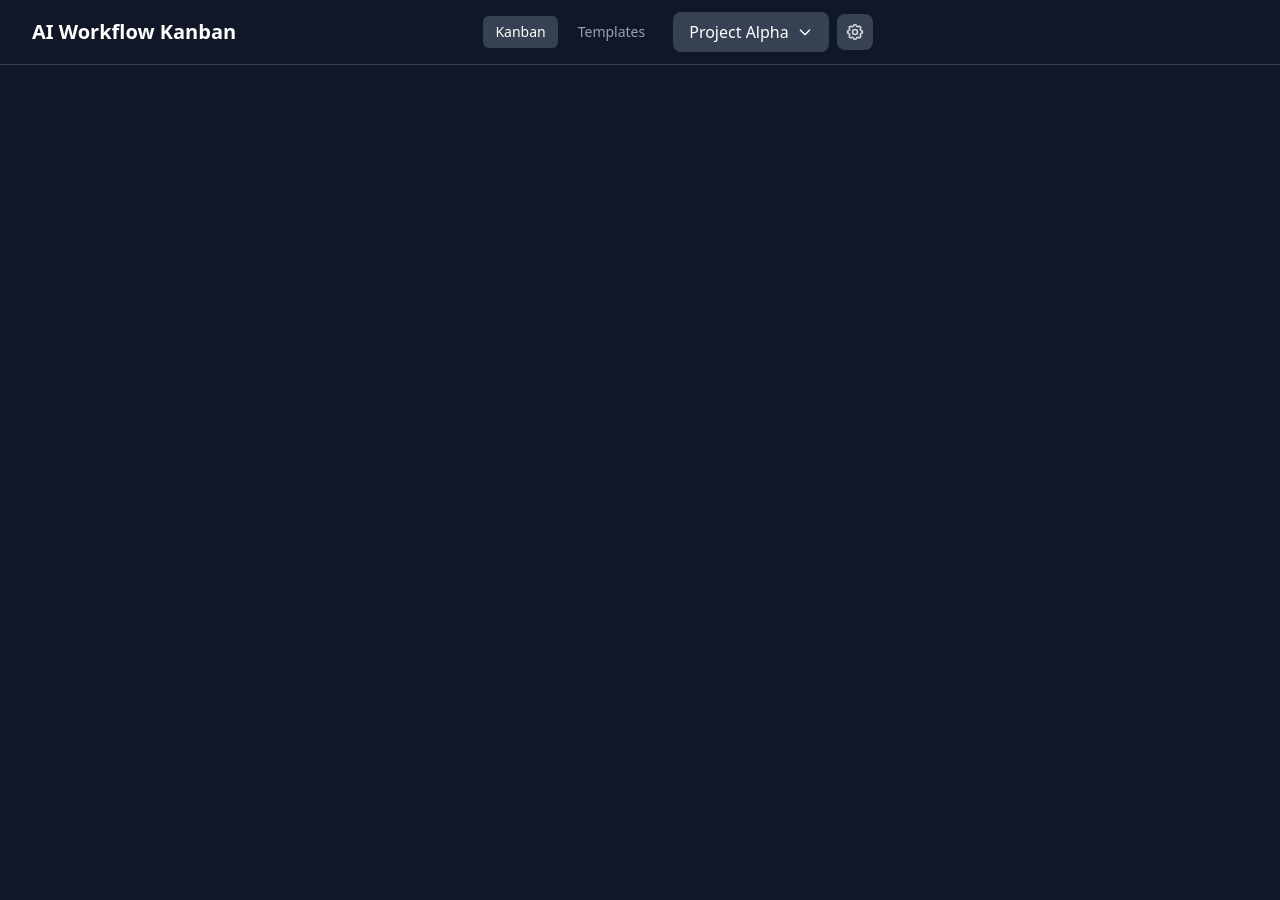
it: Header › Settings Modal Integration › should open settings modal when clicking settings button
Click the button named "settings".
click(855, 32)  # box top-left (837, 14), bottom-right (873, 50)
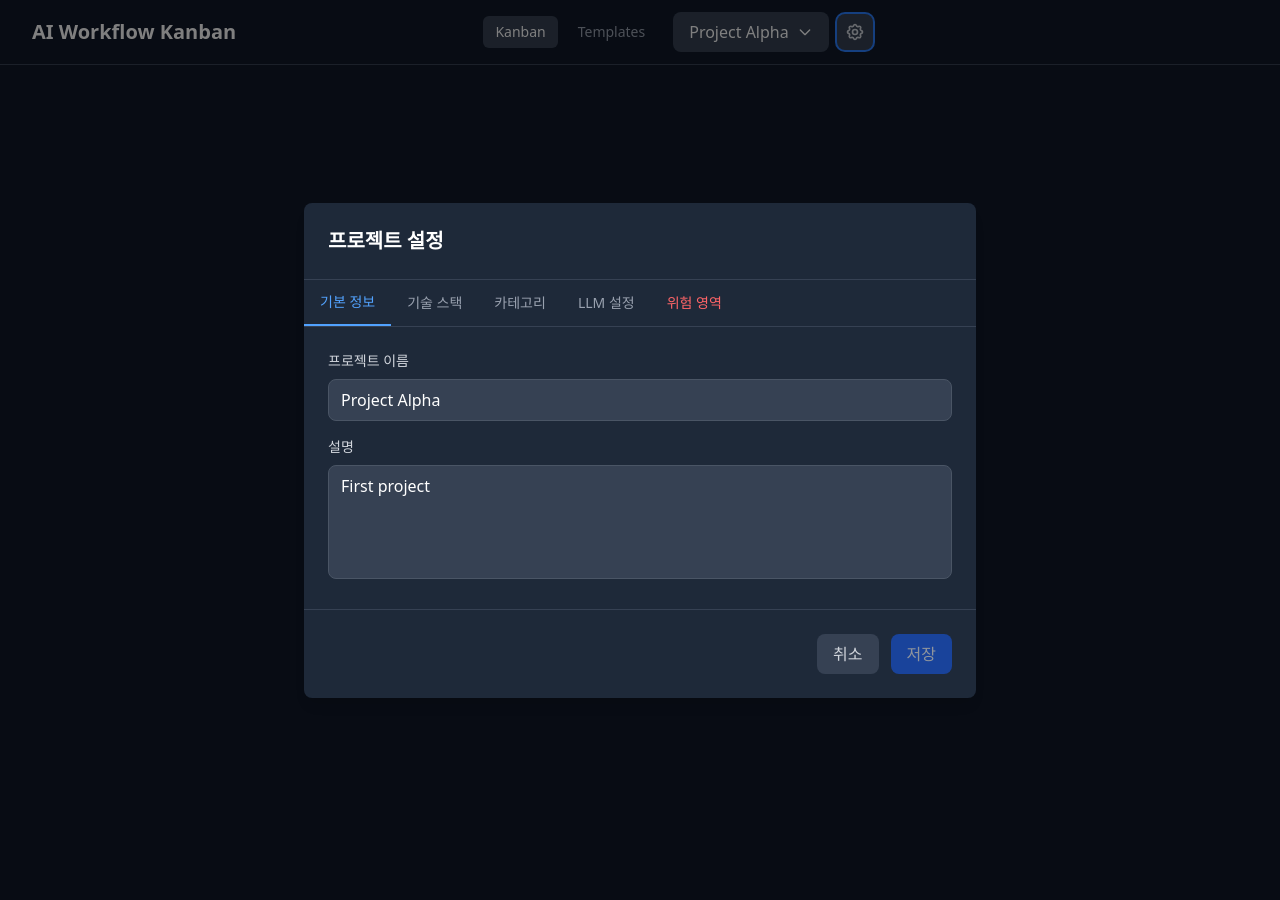
Result: the heading "프로젝트 설정" is shown at top-left (328, 226), bottom-right (444, 254)
